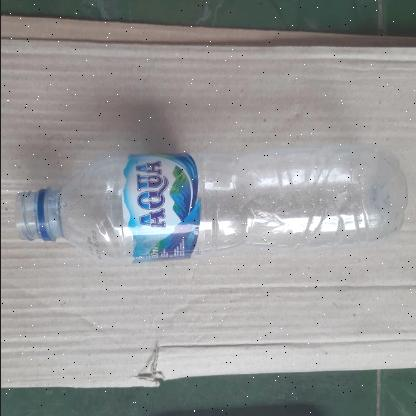Plastic Bottle: (13, 146, 406, 262)
